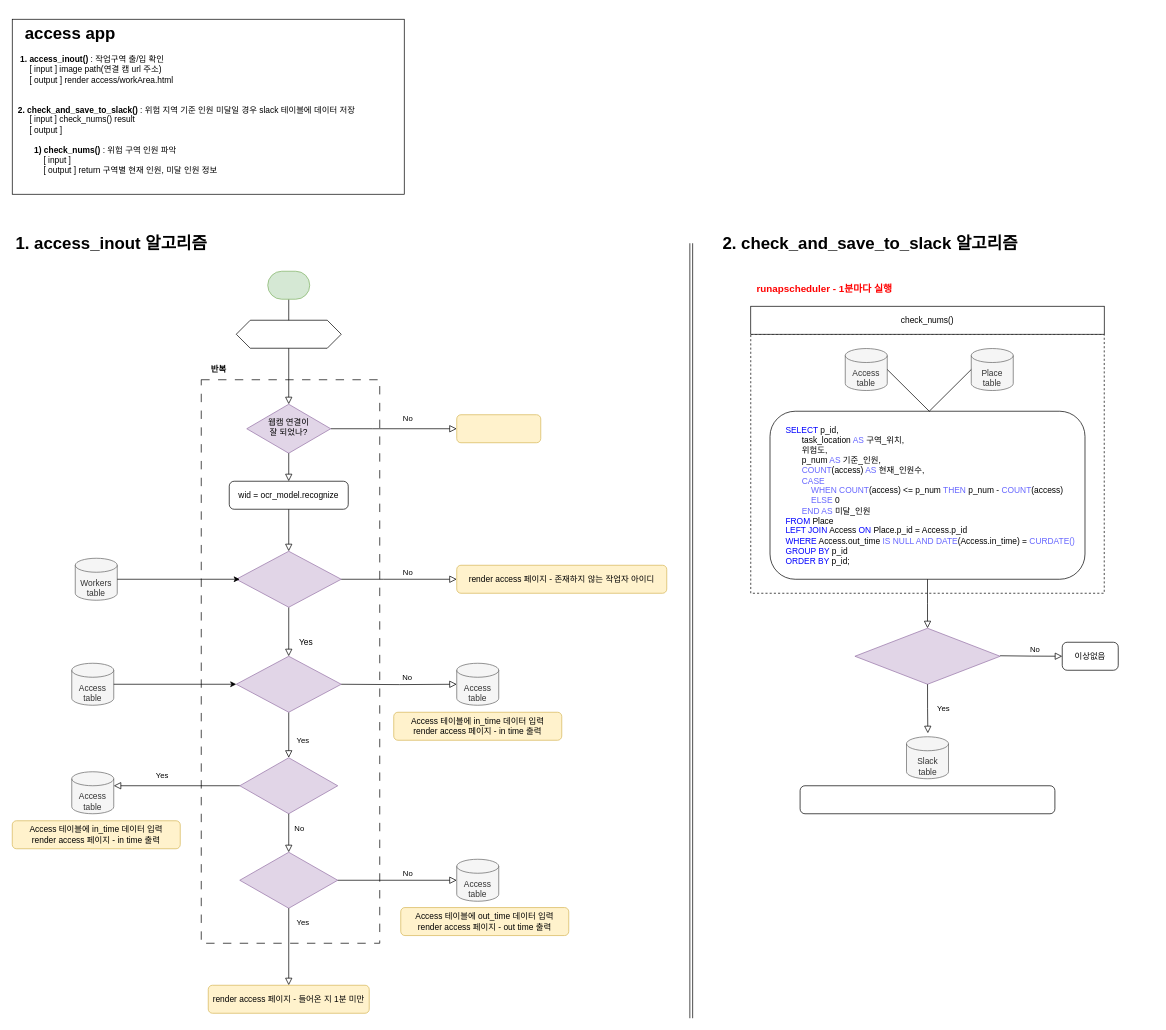
Some shapes in this 1166 by 1030 pixel diagram are drawn without their labels. Here are the shapes that lost their labels. From the top down, the centre of each, then its label:
At point 288,285: "Start".
At point 288,334: "IP_webcam 연결".
At point 498,428: "render 에러페이지".
At point 288,579: "작업자 테이블에 wid가 존재하는가?".
At point 927,656: "구역 현재 인원수가 1명 이상, 미달 인원이 0명 이상인가?".
At point 288,684: "위험구역 테이블 안에 wid 기록이 있는가?".
At point 288,785: "out_time 데이터가 있는가?".
At point 927,799: "Slack 테이블에 데이터 저장 & Slack 채널에 경고 메시지 전송".
At point 288,880: "현재 시간과 in_time 시간 차이가 1분 미만인가?".
